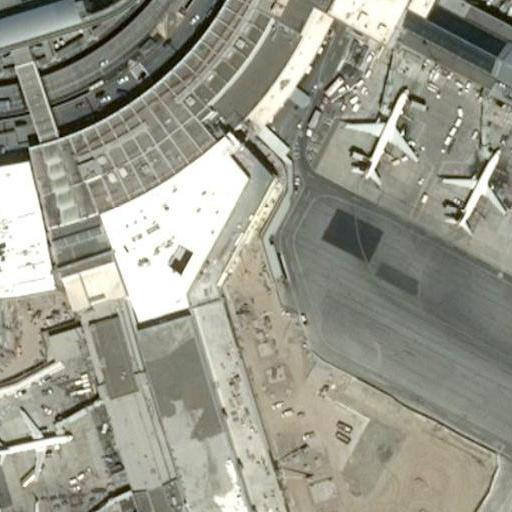Aircraft: (334, 74, 408, 183), (438, 132, 508, 231)
